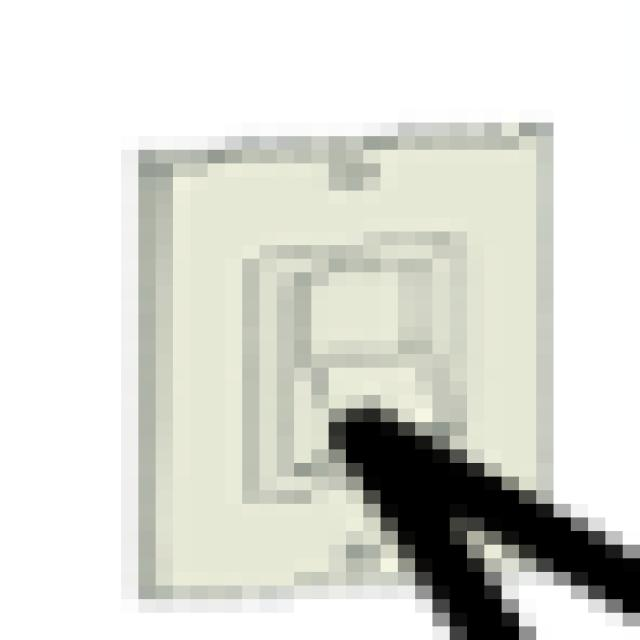switch: (113, 102, 580, 617)
